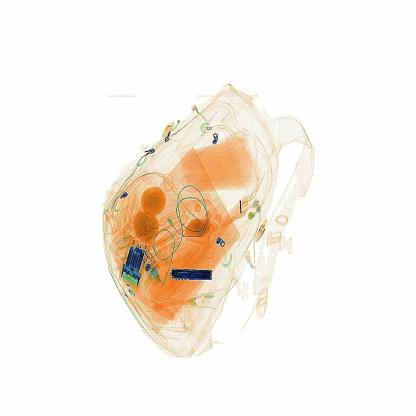scissors: (170, 262, 214, 286)
